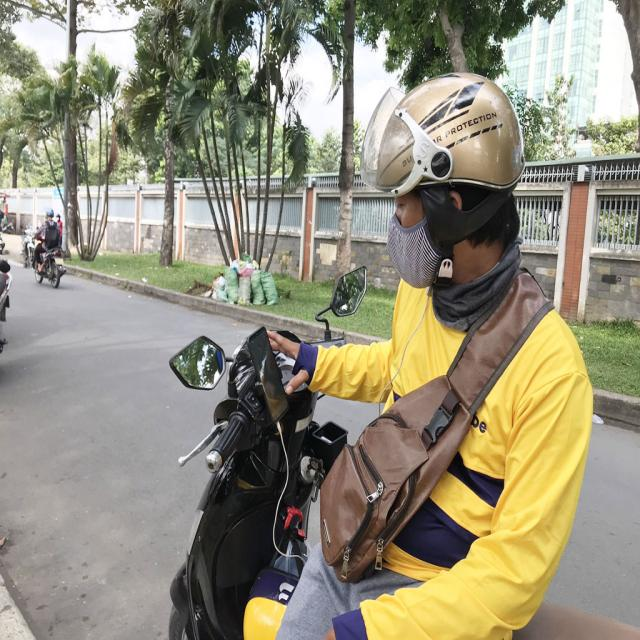helmet: (358, 70, 527, 200)
